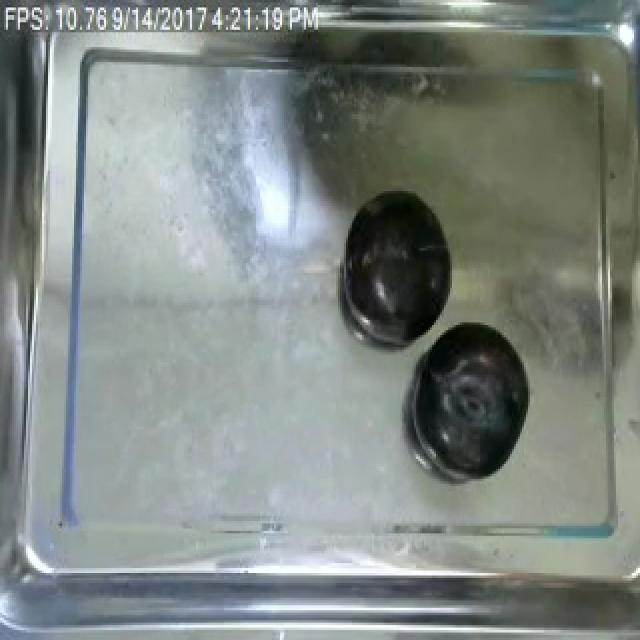Fruit: (408, 315, 534, 479), (342, 183, 458, 344)
